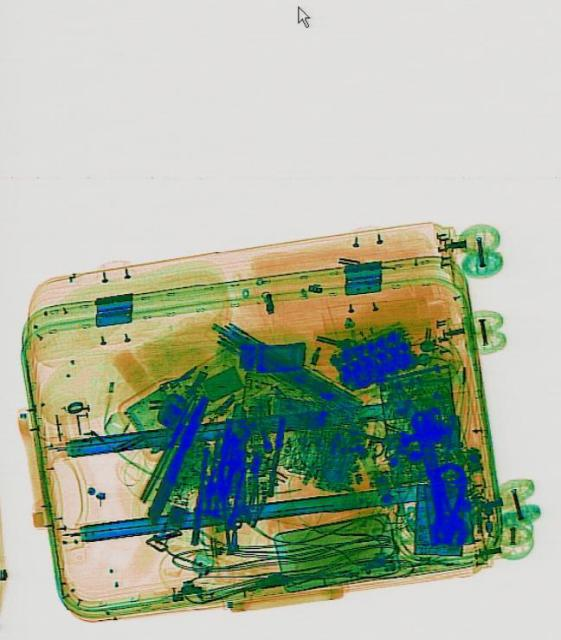Wrench: (397, 404, 471, 550), (227, 429, 253, 526)
